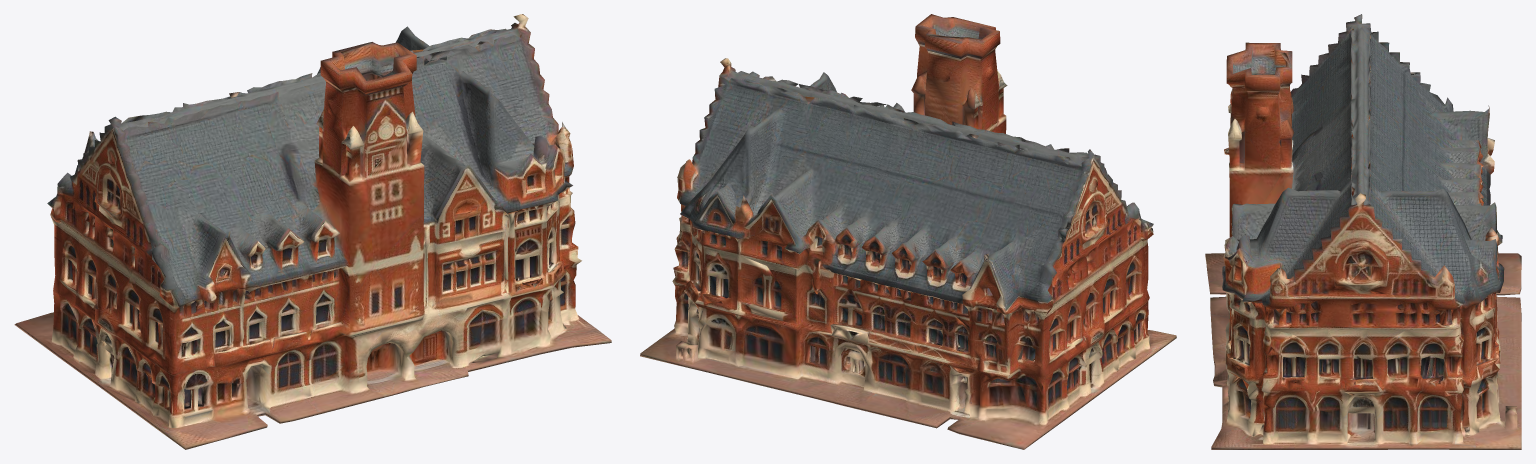
File: lumbercamp.glb
3 views of the same model, side by side, from view 1: azimuth 30°, elevation 25°; view 2: azimuth 150°, elevation 25°; view 3: azimuth 270°, elevation 25° (orthographic). The views are drawn at different scales.
Bounding box in the file's own units: 1.91 × 1.35 × 1.32.
1 material, 1 textured.
